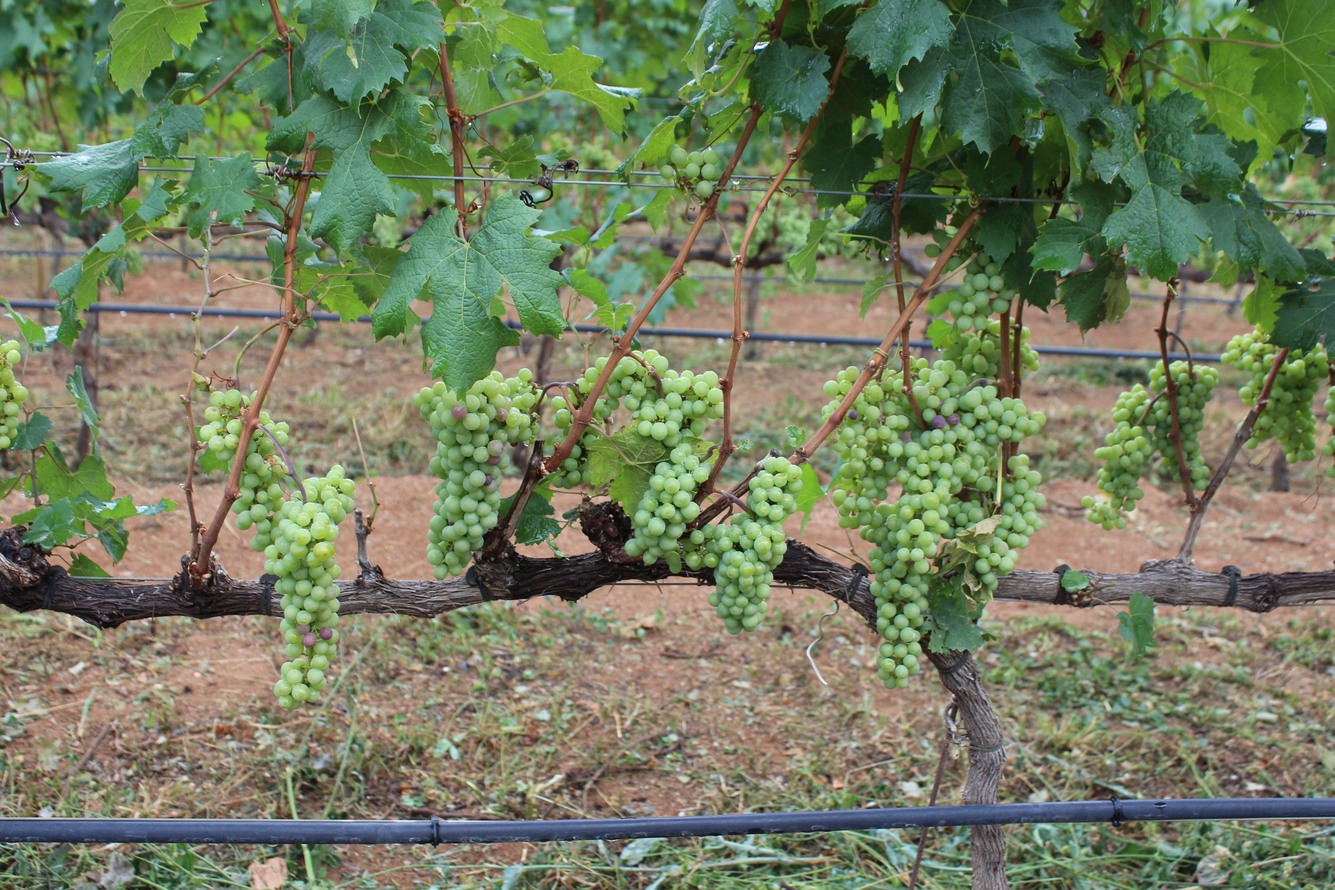leaf: (373, 193, 564, 391), (1199, 183, 1306, 280), (109, 0, 208, 96), (848, 0, 953, 79), (803, 123, 883, 208), (180, 153, 259, 238), (751, 39, 830, 121), (1060, 255, 1129, 335), (1270, 278, 1335, 350), (1117, 591, 1155, 658)
